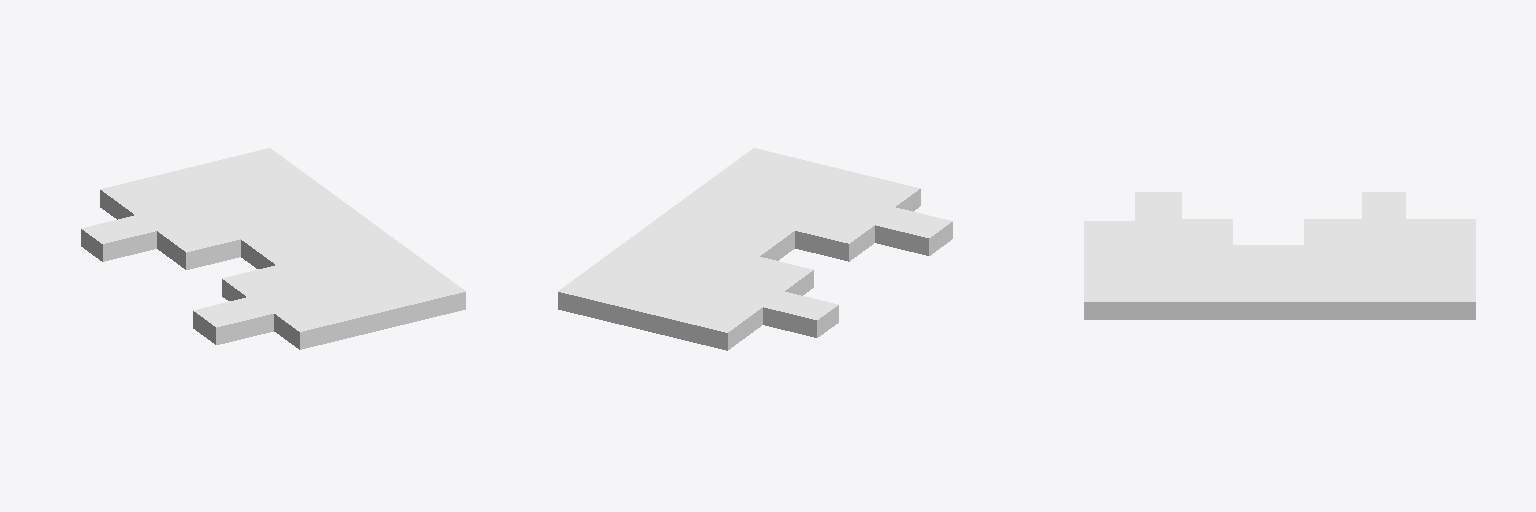
The model's file is MassonEyeDor-1.obj.
3 views of the same model, side by side, from view 1: azimuth 30°, elevation 25°; view 2: azimuth 150°, elevation 25°; view 3: azimuth 270°, elevation 25° (orthographic).
Visible parts, largest first — view 1: object 1; view 2: object 1; view 3: object 1.
Part boxes in pixels (x1,y1,x2,y2): object 1: (81,148,465,349); object 1: (558,148,952,350); object 1: (1084,192,1475,319).
Size of the model in its own units: 6.6 by 0.5 by 10.